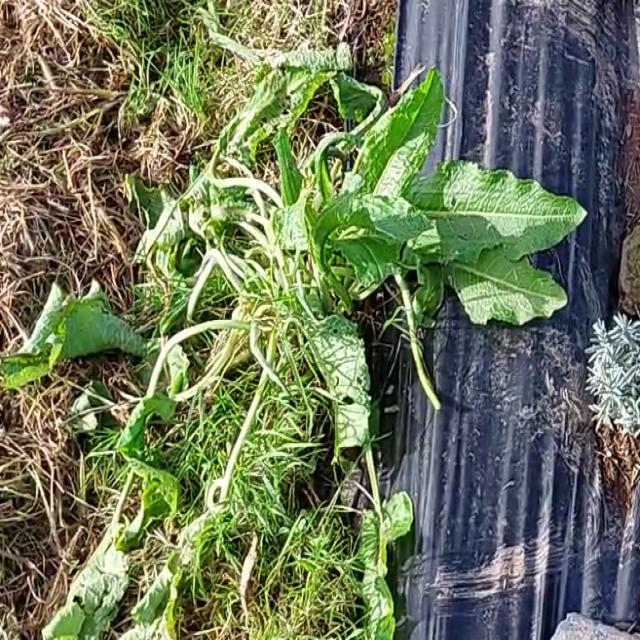organic waste: (6, 48, 564, 640)
